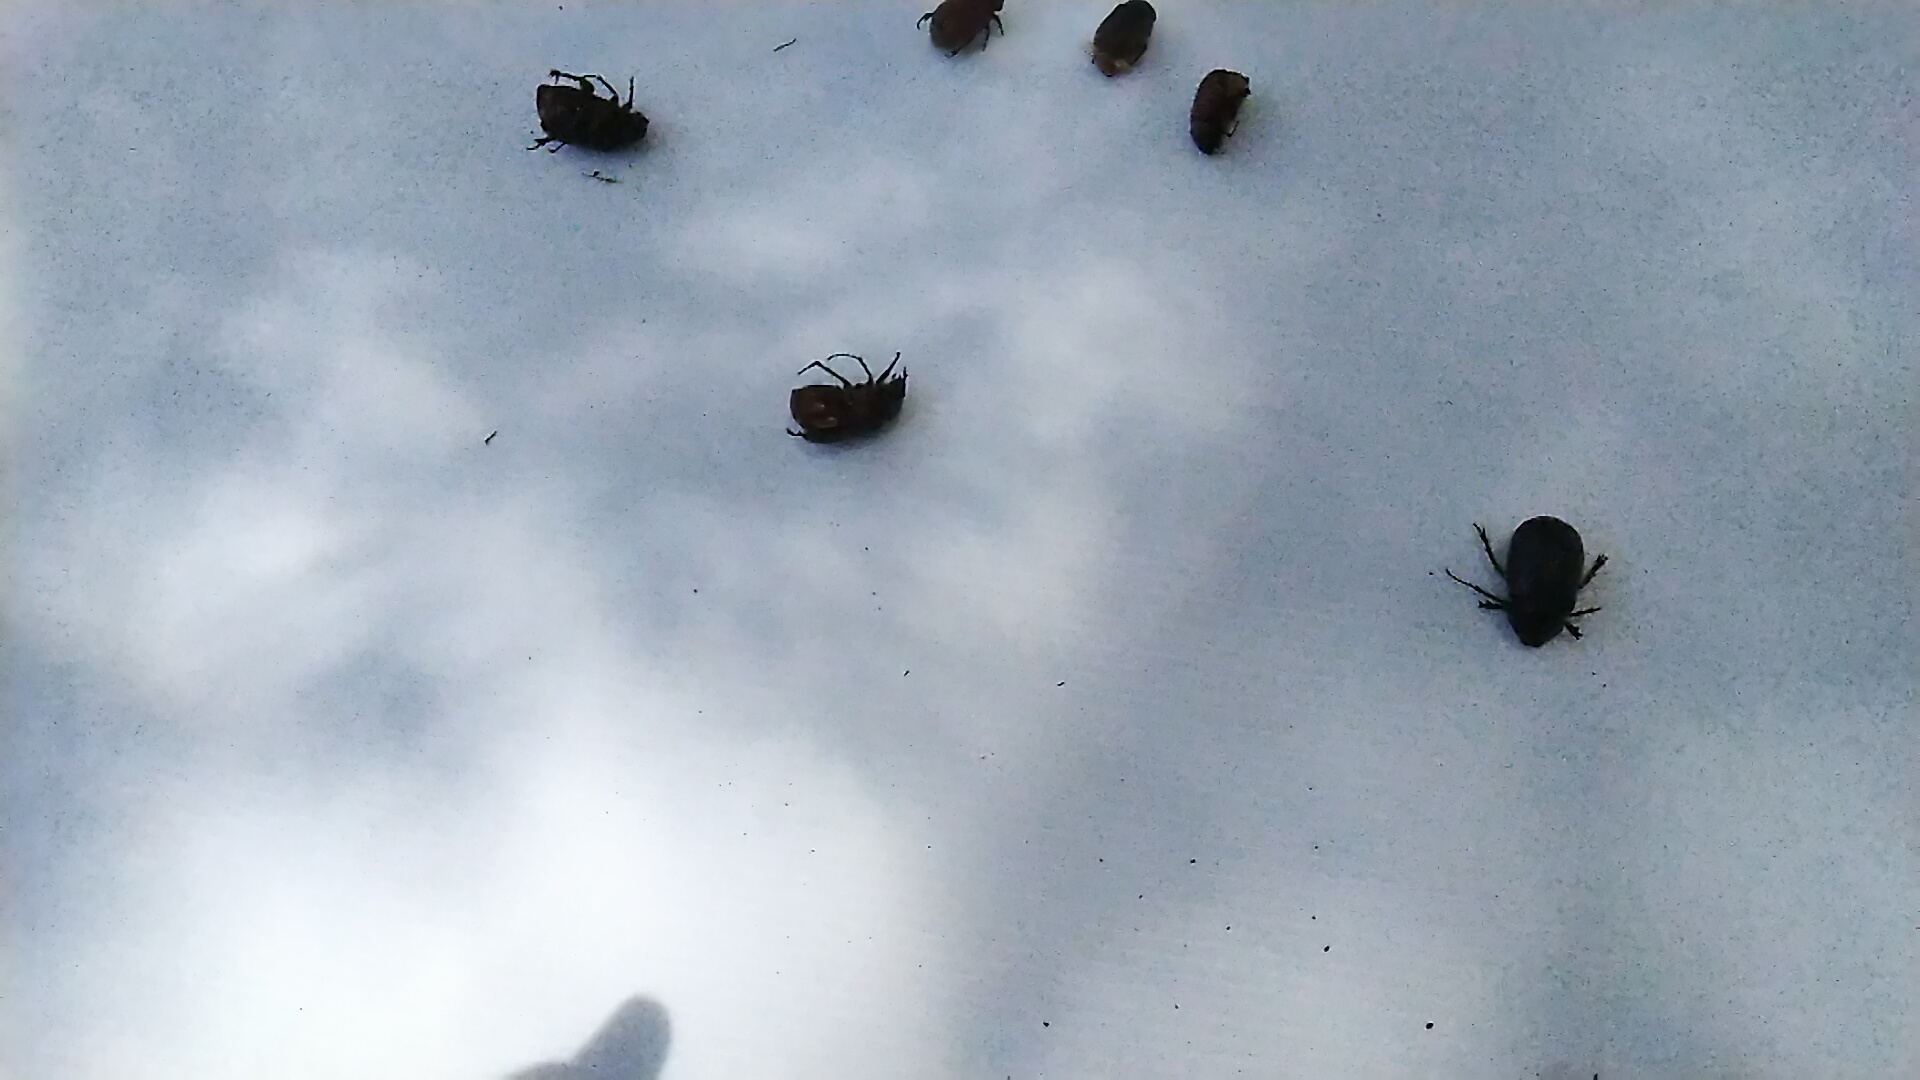INS-A: (1439, 488, 1629, 670), (766, 322, 928, 462), (516, 57, 655, 170), (1182, 65, 1266, 161), (1073, 1, 1160, 88), (901, 1, 1015, 59)
